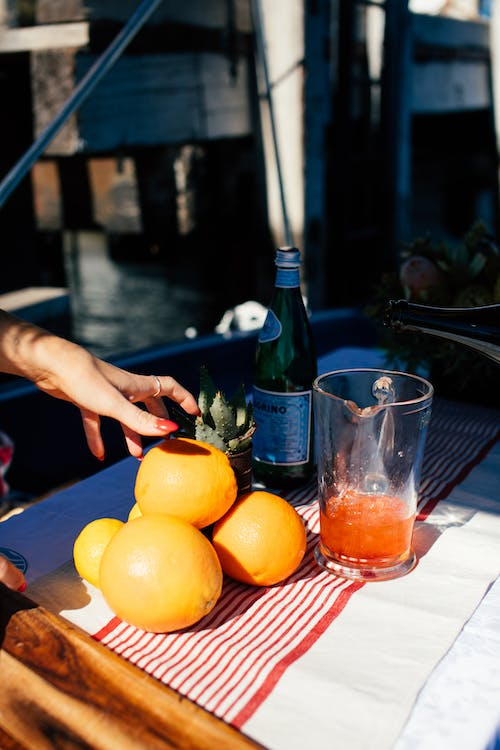alcohol: (311, 366, 435, 583), (245, 245, 320, 488)
